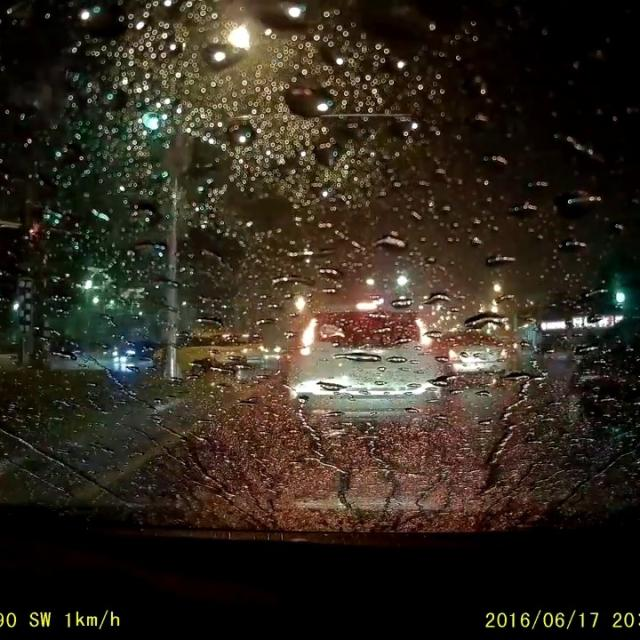Car: (274, 300, 448, 431), (430, 328, 510, 382), (152, 330, 248, 370), (226, 331, 265, 369), (108, 339, 151, 359)
